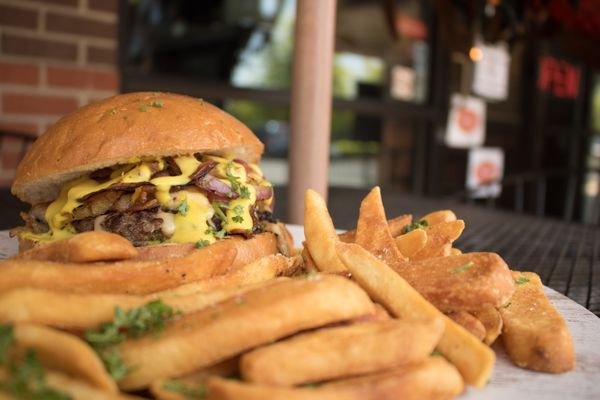soup: (3, 91, 293, 330), (8, 90, 281, 253)
